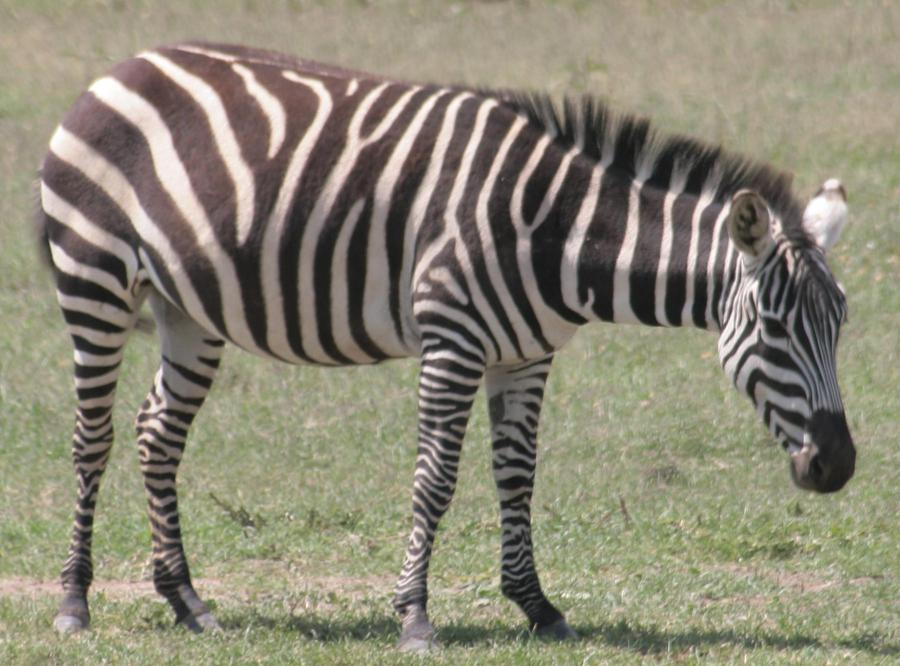zebra_plains: (17, 55, 565, 331)
